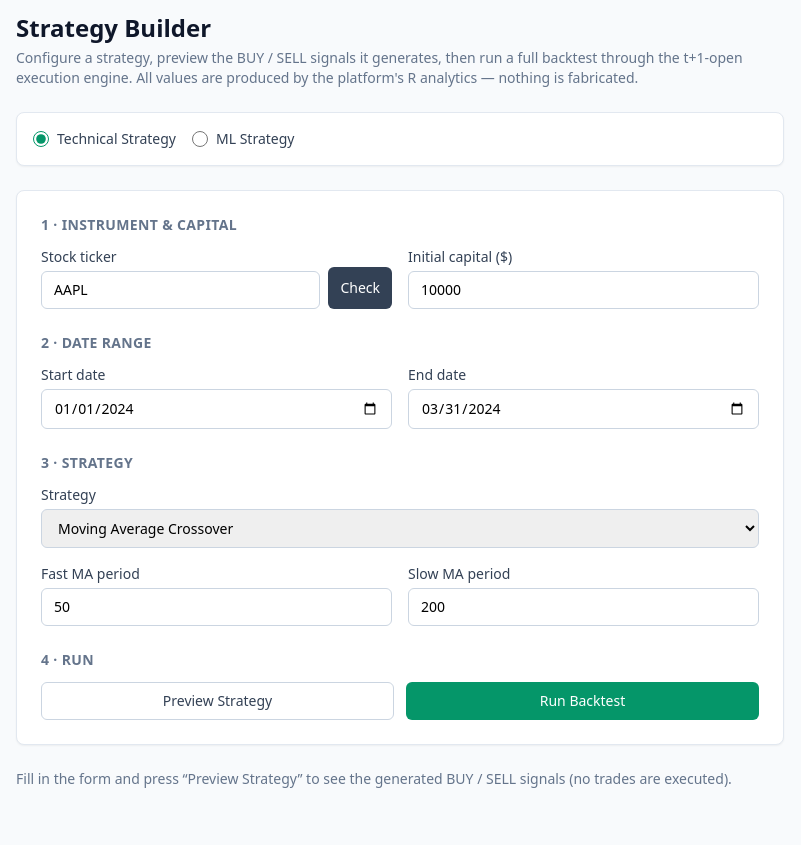
Scenario: StrategyBuilderPage (Phase 4) › rejects an empty ticker on blur
Clear the field labelled "Stock ticker" at {"x": 181, "y": 290}, box left=41, top=271, right=320, bottom=309
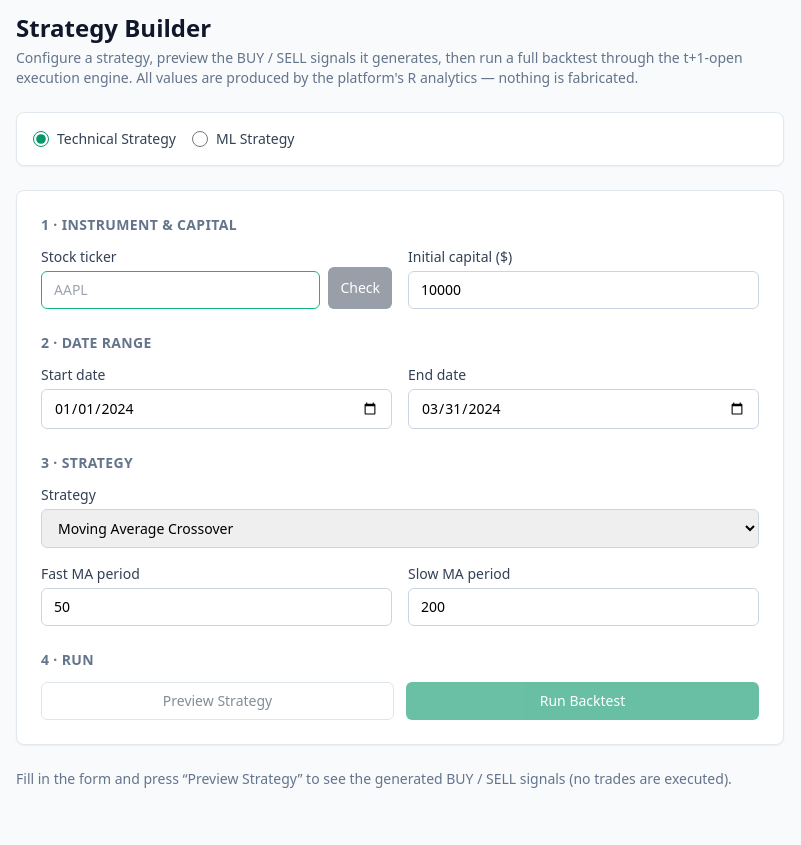
Press Tab
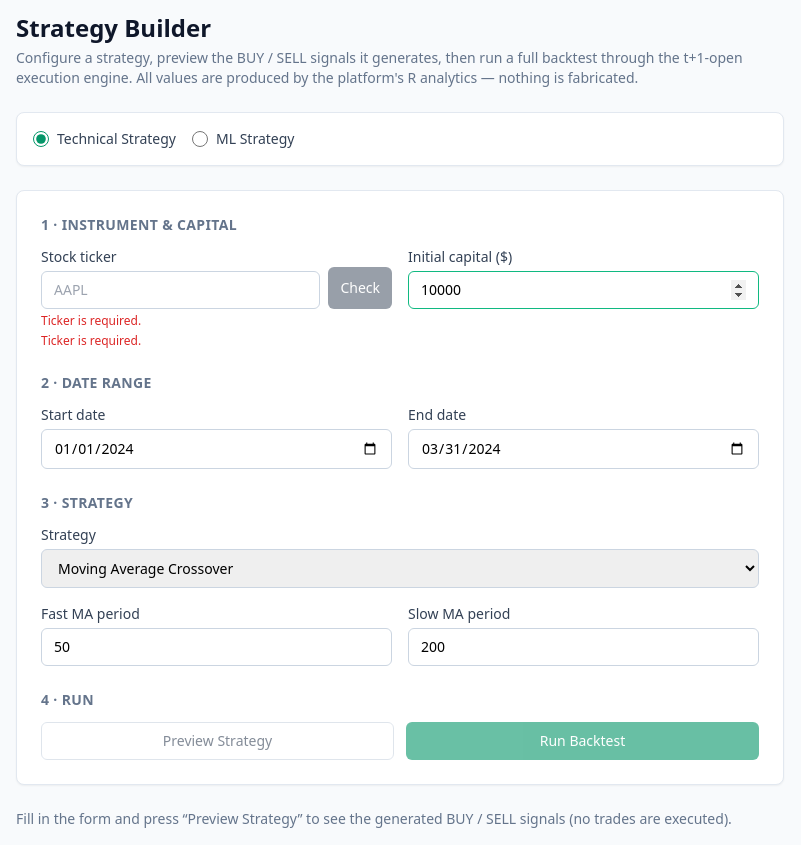
Expected: the text with test id "error-ticker" shows "Ticker is required", left=41, top=332, right=141, bottom=349
